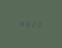eight: (18, 19, 23, 27), (24, 19, 29, 27)
two: (30, 19, 35, 28), (36, 20, 41, 28)
